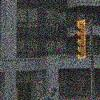traffic lights: (73, 19, 87, 61)
